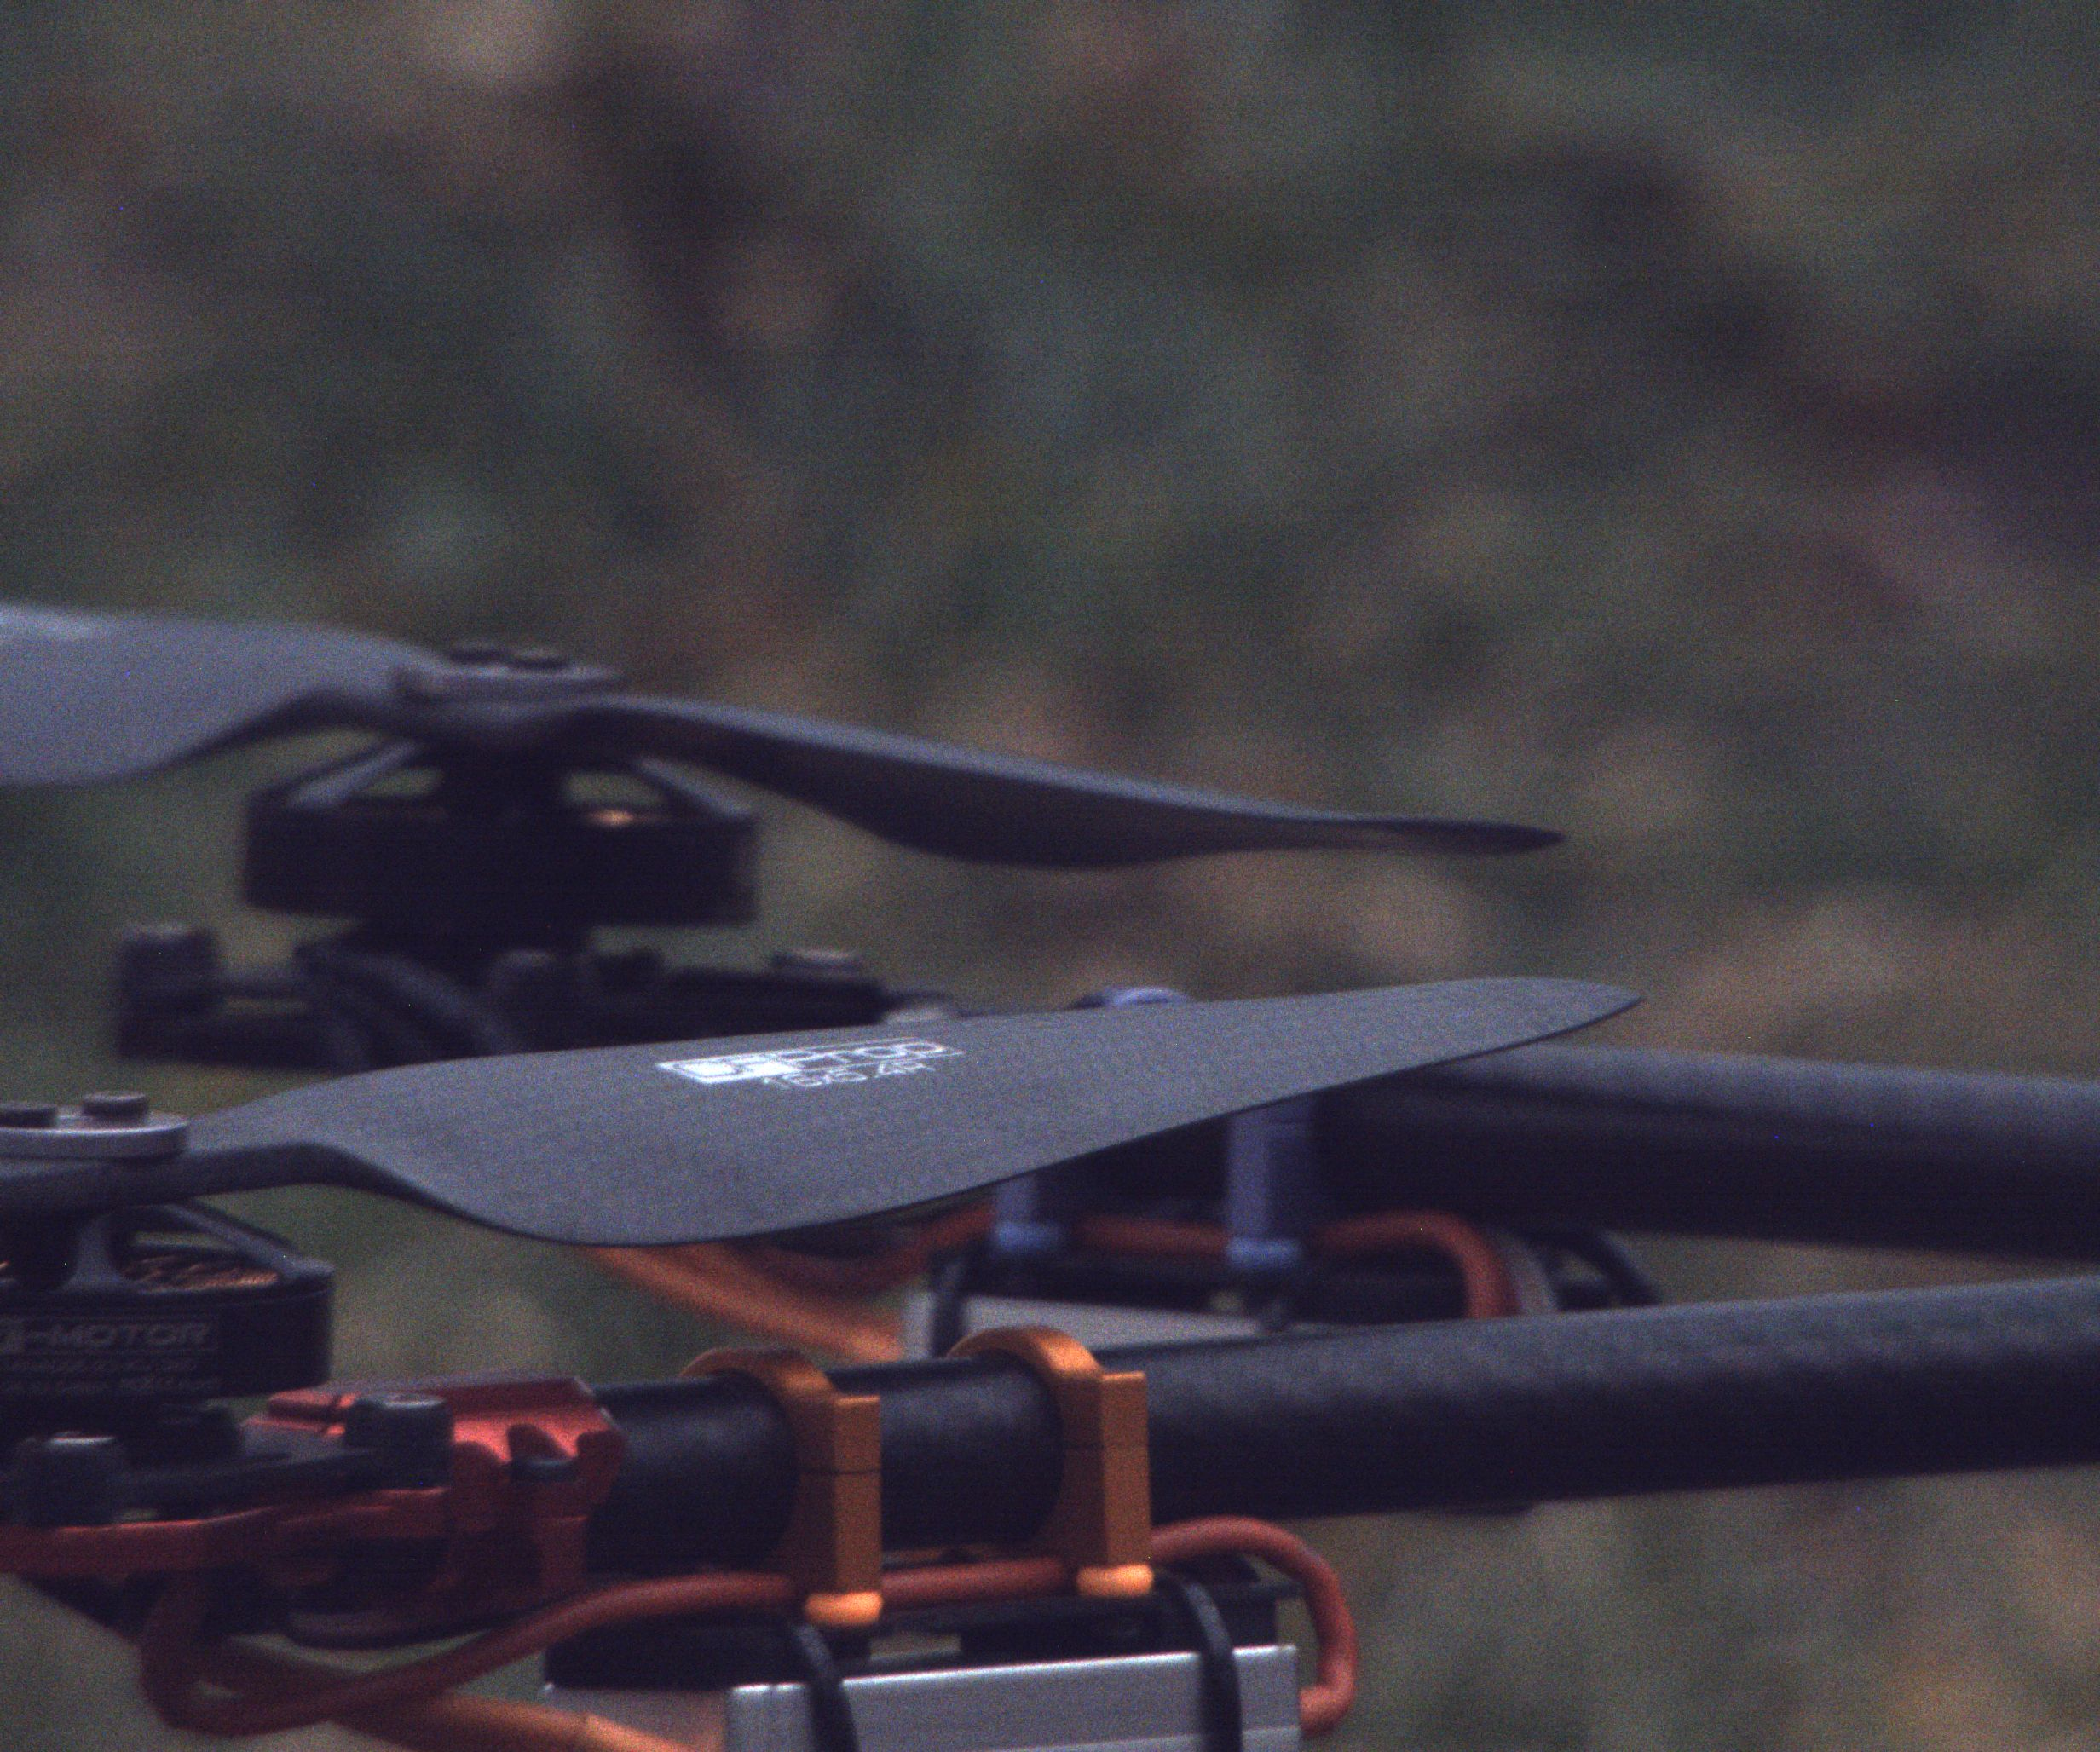Drohne: (0, 567, 2090, 1750)
